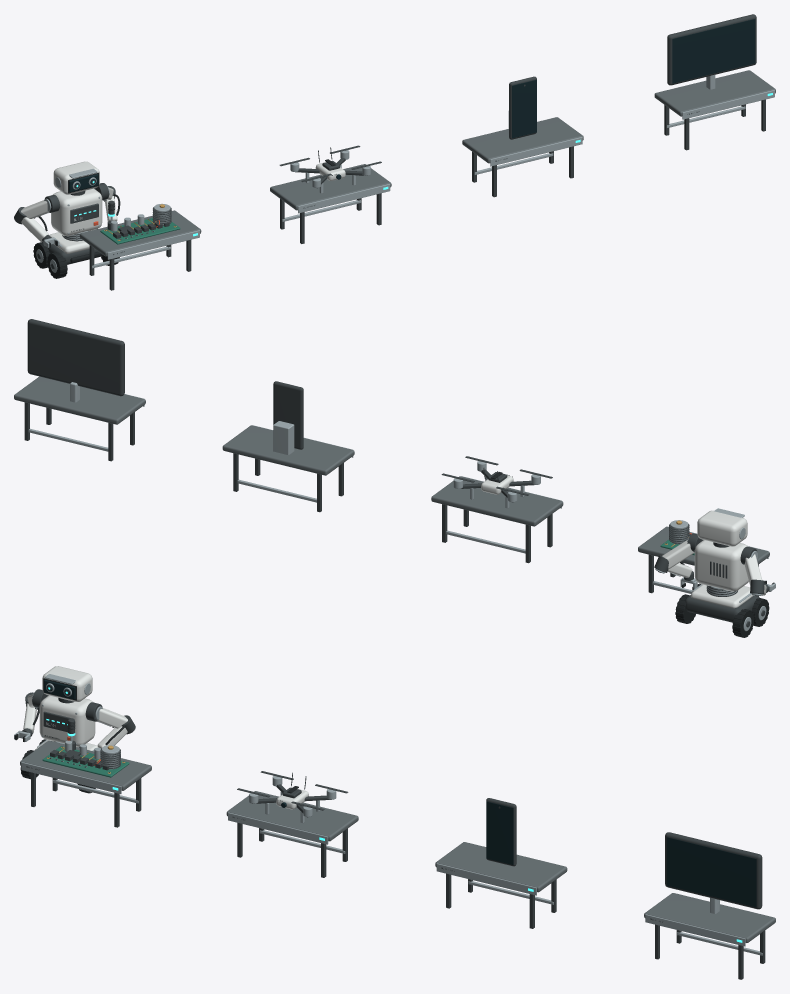
File: bill-workshop.glb
3 renders of one model, top to bottom at view 1: azimuth 30°, elevation 25°; view 2: azimuth 150°, elevation 25°; view 3: azimuth 330°, elevation 25°, orthographic. The views are drawn at different scales.
Visible parts, largest first — view 1: RouteScreen, Bench top.003, Bench top.002, Bench top.001, Torso, Bench top, PhoneScreen, Display case, Front fascia.002, Front fascia.001, Front fascia, Front fascia.003 (+2 smaller); view 2: Display case, Bench top.003, Bench top.002, Bench top.001, Torso, Device, Optical housing, Chassis, Bench top, Lower shell, Device stand; view 3: RouteScreen, Bench top.003, Bench top.002, Bench top.001, Torso, Bench top, PhoneScreen, Display case, Front fascia.003, Front fascia, Front fascia.002, Front fascia.001 (+2 smaller).
Boxes of the visible parts, box(x1,y1,x2,y2) form: RouteScreen: box(672, 19, 755, 83); Bench top.003: box(654, 70, 775, 116); Bench top.002: box(462, 117, 583, 163); Bench top.001: box(270, 164, 391, 210); Torso: box(51, 188, 102, 236); Bench top: box(79, 210, 201, 256); PhoneScreen: box(512, 79, 536, 138); Display case: box(667, 14, 756, 85); Front fascia.002: box(490, 137, 582, 166); Front fascia.001: box(298, 184, 390, 213); Front fascia: box(107, 230, 199, 259); Front fascia.003: box(682, 90, 774, 119); Display case: box(27, 319, 124, 396); Bench top.003: box(14, 376, 145, 424); Bench top.002: box(222, 425, 354, 475); Bench top.001: box(431, 476, 563, 526); Torso: box(694, 540, 748, 591); Device: box(273, 381, 303, 449); Optical housing: box(697, 510, 747, 546); Chassis: box(685, 595, 759, 622); Bench top: box(638, 526, 769, 565); Lower shell: box(690, 584, 753, 608); Device stand: box(273, 421, 294, 454); RouteScreen: box(666, 837, 756, 907); Bench top.003: box(644, 893, 775, 942); Bench top.002: box(435, 842, 567, 892); Bench top.001: box(226, 791, 358, 841); Torso: box(39, 695, 95, 746); Bench top: box(20, 740, 151, 790); PhoneScreen: box(486, 801, 513, 864); Display case: box(665, 832, 762, 909); Front fascia.003: box(645, 914, 745, 946); Front fascia: box(21, 762, 121, 794); Front fascia.002: box(436, 863, 536, 895); Front fascia.001: box(228, 812, 328, 844).
Bounding box in the file's own units: 18.54 × 2.62 × 2.38.
